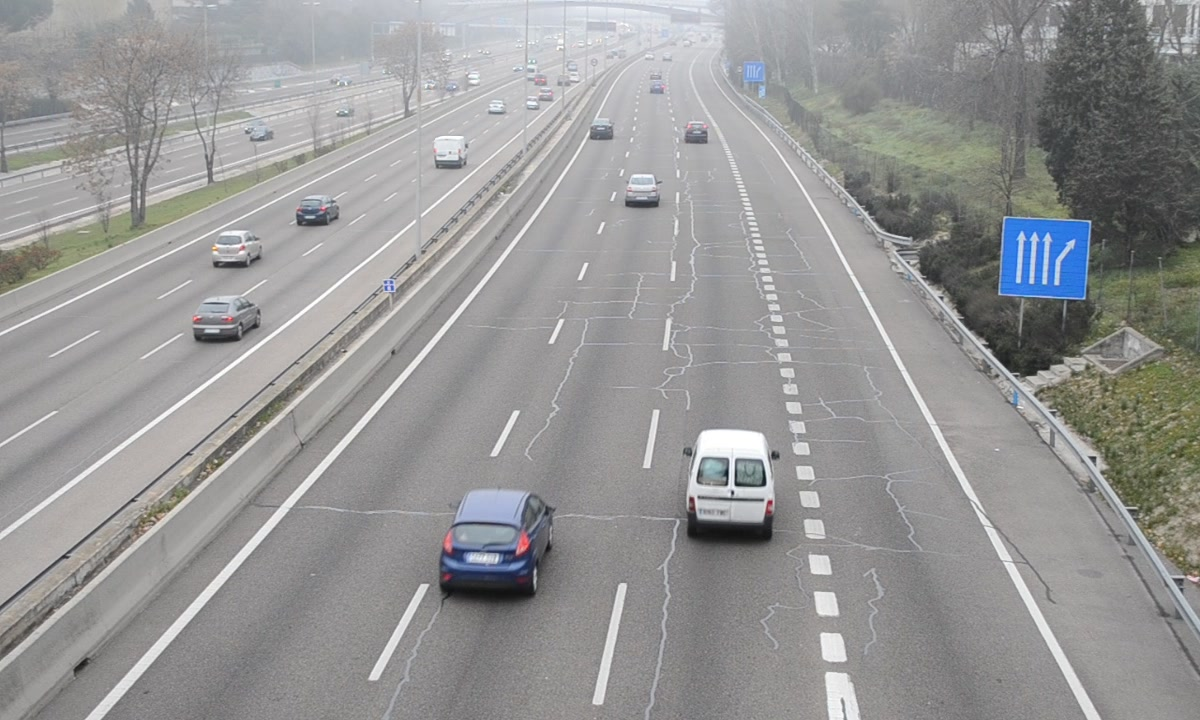car: (440, 489, 555, 596), (625, 173, 659, 206), (588, 116, 615, 141), (684, 120, 709, 145)
van: (687, 429, 776, 540)
